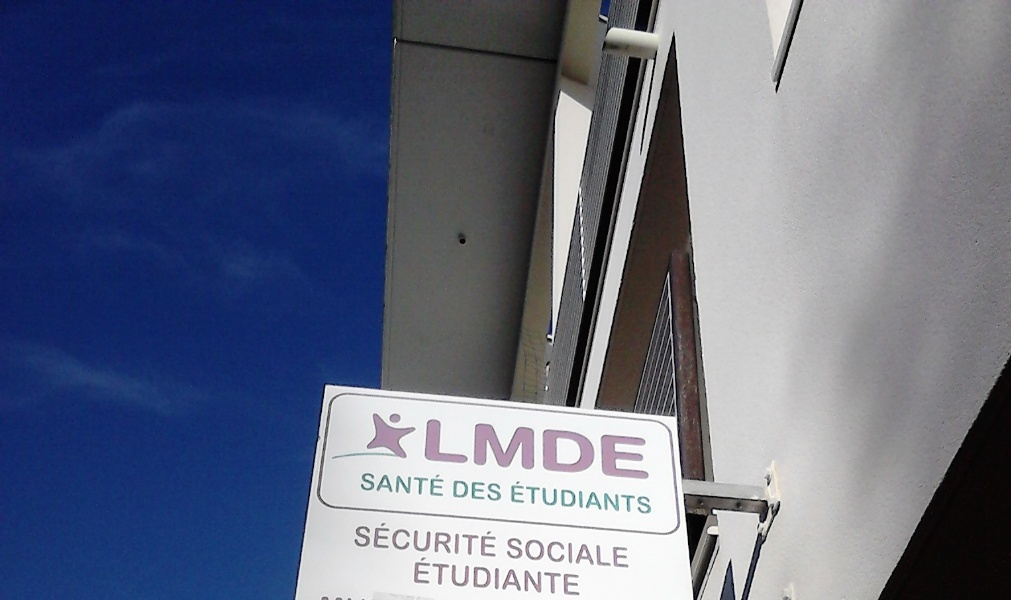text: (433, 416, 448, 480), (449, 416, 464, 480), (465, 416, 480, 480), (481, 416, 496, 480), (497, 416, 512, 480), (513, 416, 528, 480), (529, 416, 544, 480), (545, 416, 560, 480), (561, 416, 576, 480), (577, 416, 592, 480), (593, 416, 608, 480), (609, 416, 624, 480), (625, 416, 640, 480), (641, 416, 651, 480), (417, 555, 432, 597), (433, 555, 448, 597), (449, 555, 464, 597), (465, 555, 480, 597), (481, 555, 496, 597), (497, 555, 512, 597), (513, 555, 528, 597), (529, 555, 544, 597), (545, 555, 560, 597), (561, 555, 576, 597), (369, 519, 384, 558), (385, 519, 400, 558), (401, 519, 416, 558), (417, 519, 432, 558), (433, 519, 448, 558), (449, 519, 464, 558), (465, 519, 480, 558), (481, 519, 496, 558), (513, 480, 528, 516), (529, 480, 544, 516), (545, 480, 560, 516), (561, 480, 576, 516), (577, 480, 592, 516), (593, 480, 608, 516), (609, 480, 624, 516), (625, 480, 640, 516), (424, 416, 432, 480), (513, 538, 528, 569), (529, 538, 544, 569), (545, 538, 560, 569), (561, 538, 576, 569), (577, 538, 592, 569), (593, 538, 608, 569), (609, 538, 624, 569), (369, 469, 384, 498), (385, 469, 400, 498), (401, 469, 416, 498), (417, 469, 432, 498), (641, 480, 653, 516), (357, 519, 368, 558), (433, 469, 446, 498), (465, 480, 480, 502), (481, 480, 496, 502), (453, 480, 464, 502), (577, 555, 582, 597), (361, 469, 368, 498), (497, 480, 504, 502), (508, 480, 512, 516), (508, 538, 512, 569), (625, 538, 629, 569), (414, 555, 416, 597), (497, 519, 498, 558)
